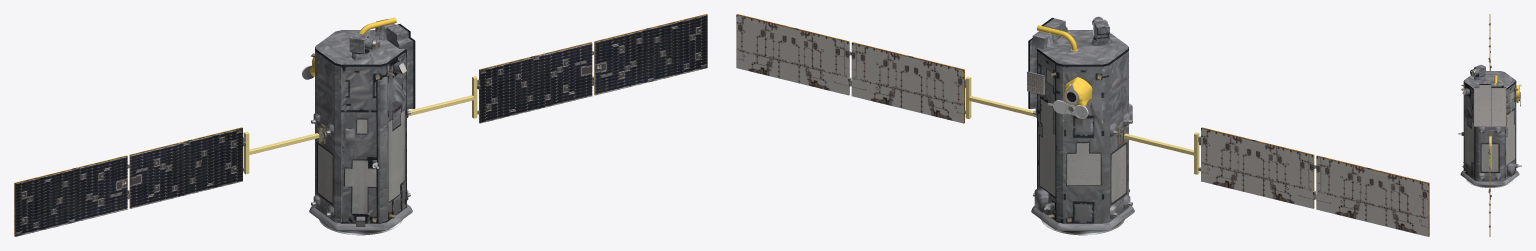
File: oco2.glb
The picture shows the model from 3 angles, left to right: view 1: azimuth 30°, elevation 25°; view 2: azimuth 150°, elevation 25°; view 3: azimuth 270°, elevation 25°; orthographic projection. The views are drawn at different scales.
Visible parts, largest first — view 1: solar_1, bus_8, bus_3, bus_6, bus_5, bus_4; view 2: bus_5, bus_8, bus_3, bus_6, bus_4, bus_1, bus_2; view 3: bus_8, bus_5, bus_6, bus_3, bus_4, bus_2, bus_1.
Part boxes in pixels (x1,y1,x2,y2): solar_1: (15, 14, 707, 236); bus_8: (313, 25, 408, 223); bus_3: (309, 19, 415, 231); bus_6: (317, 110, 405, 214); bus_5: (14, 14, 706, 236); bus_4: (243, 76, 477, 174); bus_5: (736, 14, 1429, 236); bus_8: (1034, 18, 1132, 223); bus_3: (1028, 18, 1134, 231); bus_6: (1039, 69, 1127, 205); bus_4: (965, 76, 1199, 174); bus_1: (1044, 84, 1088, 210); bus_2: (1063, 77, 1092, 106); bus_8: (1462, 64, 1517, 181); bus_5: (1461, 14, 1520, 236); bus_6: (1465, 90, 1515, 172); bus_3: (1460, 71, 1519, 185); bus_4: (1489, 136, 1491, 169); bus_2: (1516, 85, 1519, 102); bus_1: (1458, 84, 1521, 167).
Bounding box in the file's own units: 8.13 × 2.16 × 1.13.
9 materials, 6 textured.
